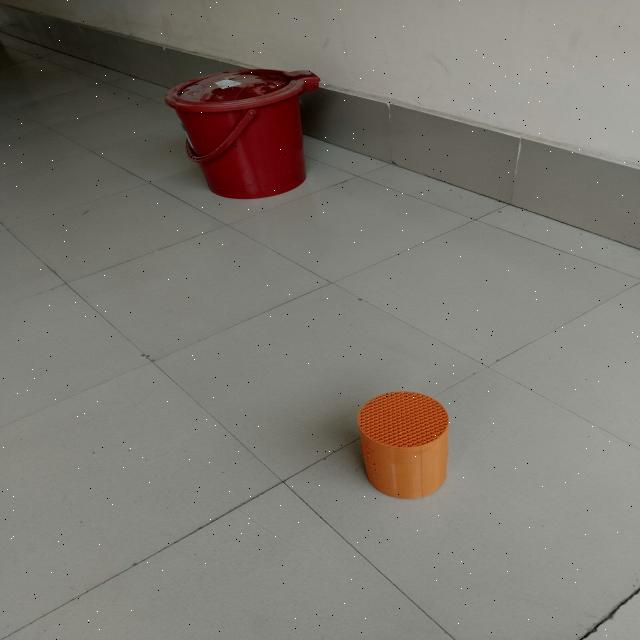Cylinder: (164, 67, 322, 199), (356, 390, 451, 499)
